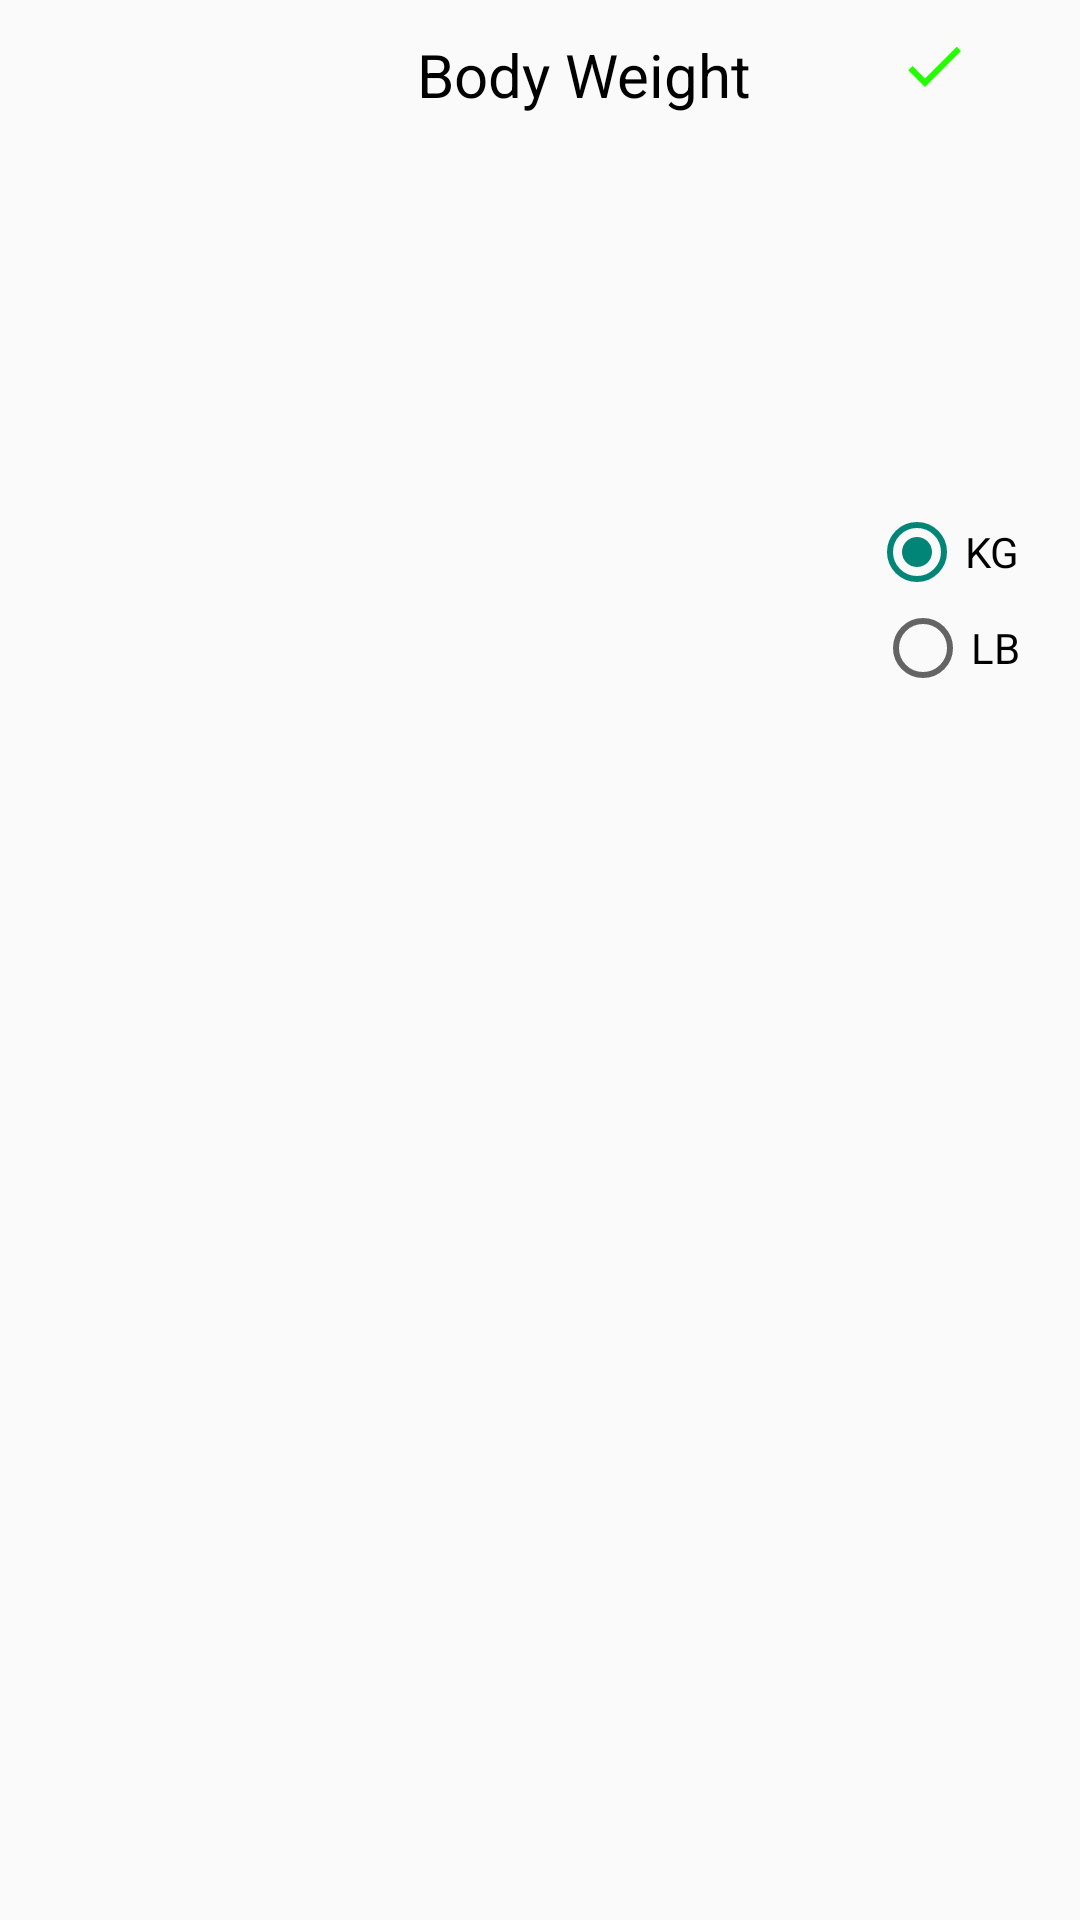

Where icons sit on this 1080px×1920px app screen, as [x1, y1, x2, y2]:
checked: [908, 47, 961, 87]
